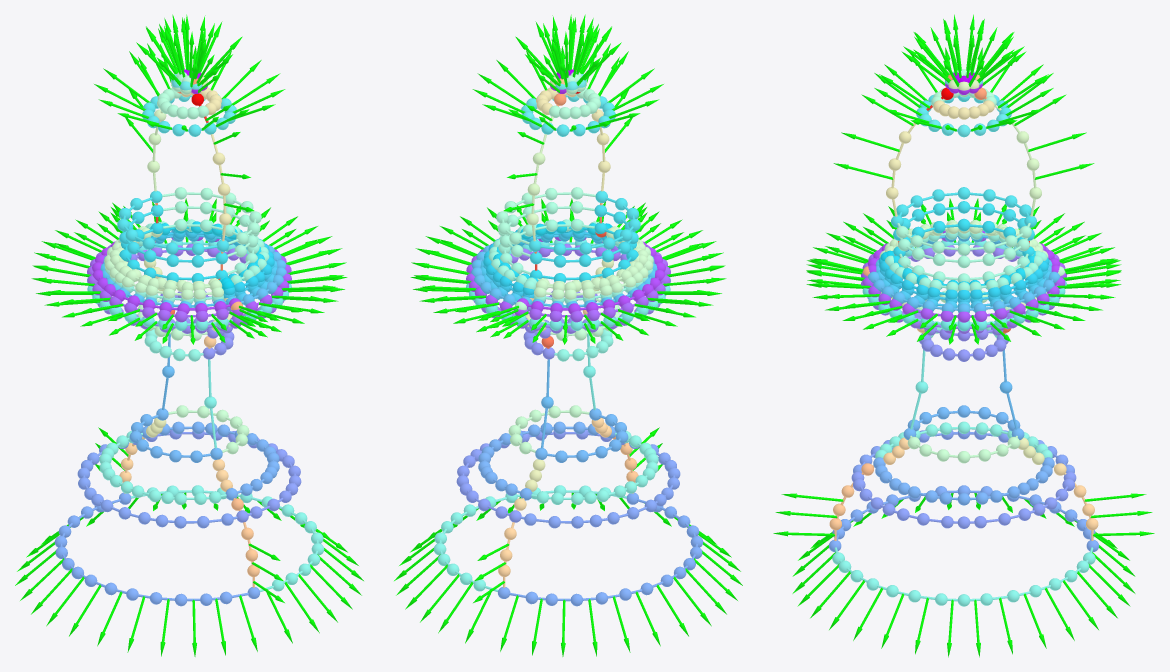
File: onshape_bishop.gltf
The picture shows the model from 3 angles, left to right: view 1: azimuth 30°, elevation 25°; view 2: azimuth 150°, elevation 25°; view 3: azimuth 270°, elevation 25°; orthographic projection.
Bounding box in the file's own units: 0.5529 × 0.9836 × 0.6069.
